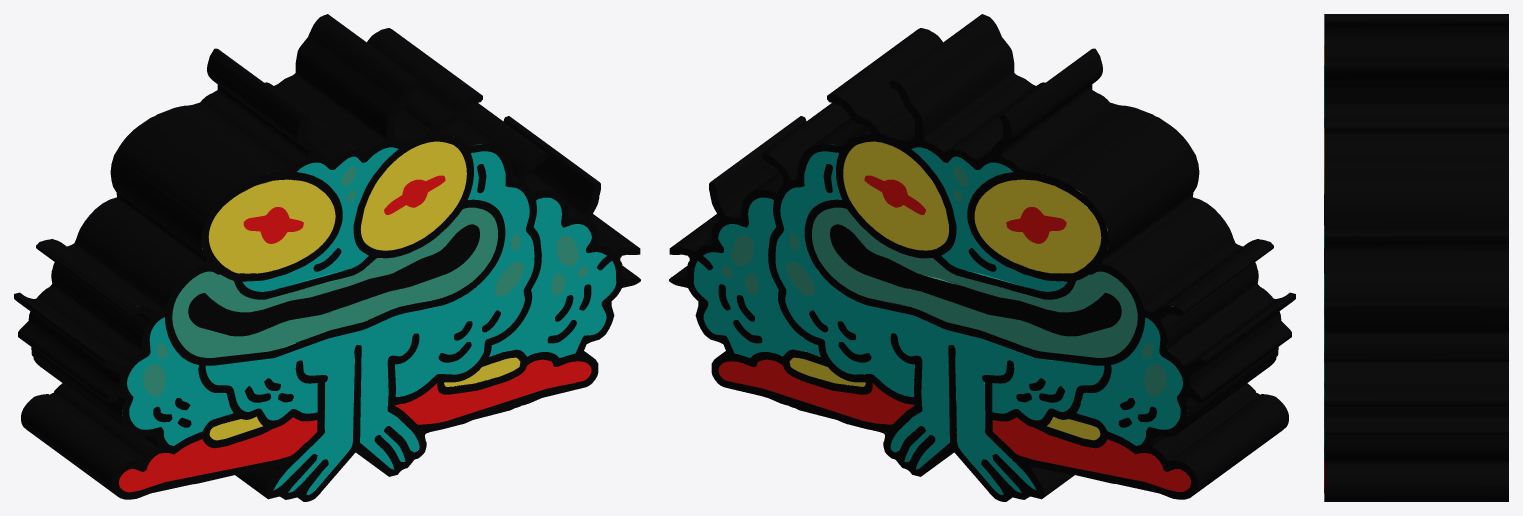
Rendered from Toadz_5086.glb.
The picture shows the model from 3 angles, left to right: view 1: azimuth 30°, elevation 25°; view 2: azimuth 150°, elevation 25°; view 3: azimuth 270°, elevation 25°; orthographic projection.
Visible parts, largest first — view 1: Curve; view 2: Curve; view 3: Curve.
Part boxes in pixels (bbox=[...]): Curve: bbox=[14, 14, 640, 501]; Curve: bbox=[669, 14, 1295, 501]; Curve: bbox=[1324, 14, 1508, 501].
Size of the model in its own units: 3.41 by 2.4 by 1.
